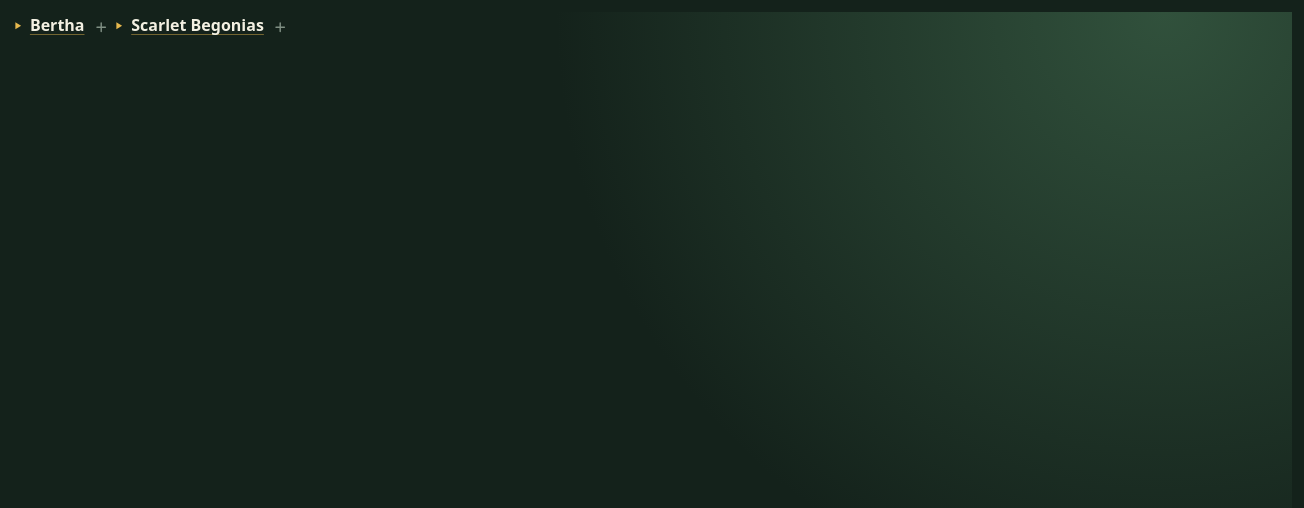
Test: adding to the queue › loads a track paused into an empty player
Click the button named "Add Scarlet Begonias to queue": point(281, 27) 269,15 -> 293,39
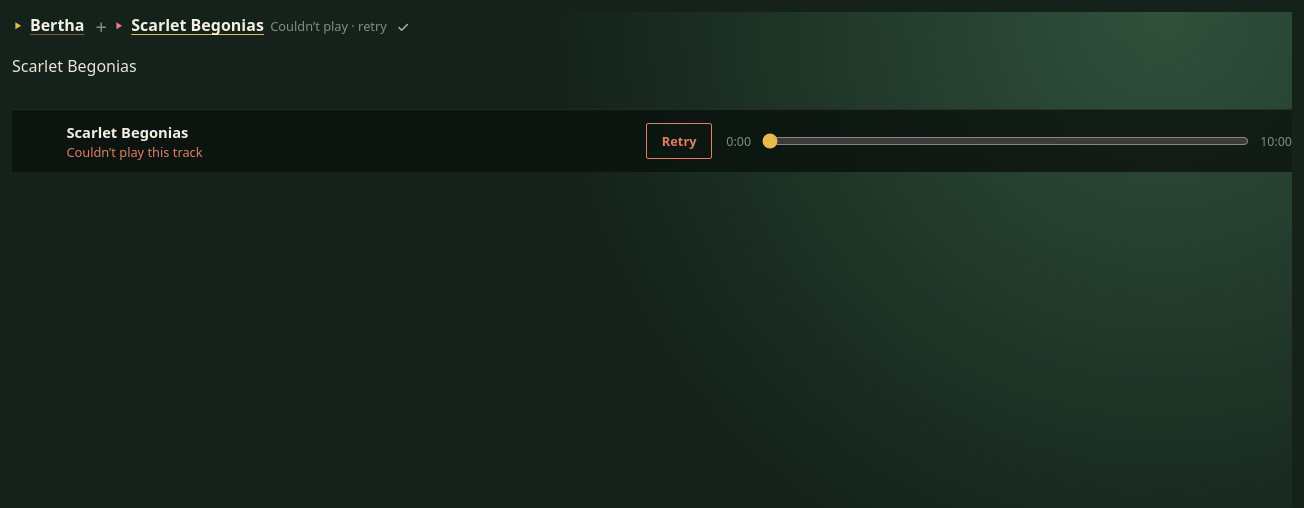
Expected: the text "Scarlet Begonias" is shown, 131,14 -> 264,36
Expected: the button named "Play" is shown, 646,123 -> 712,159
